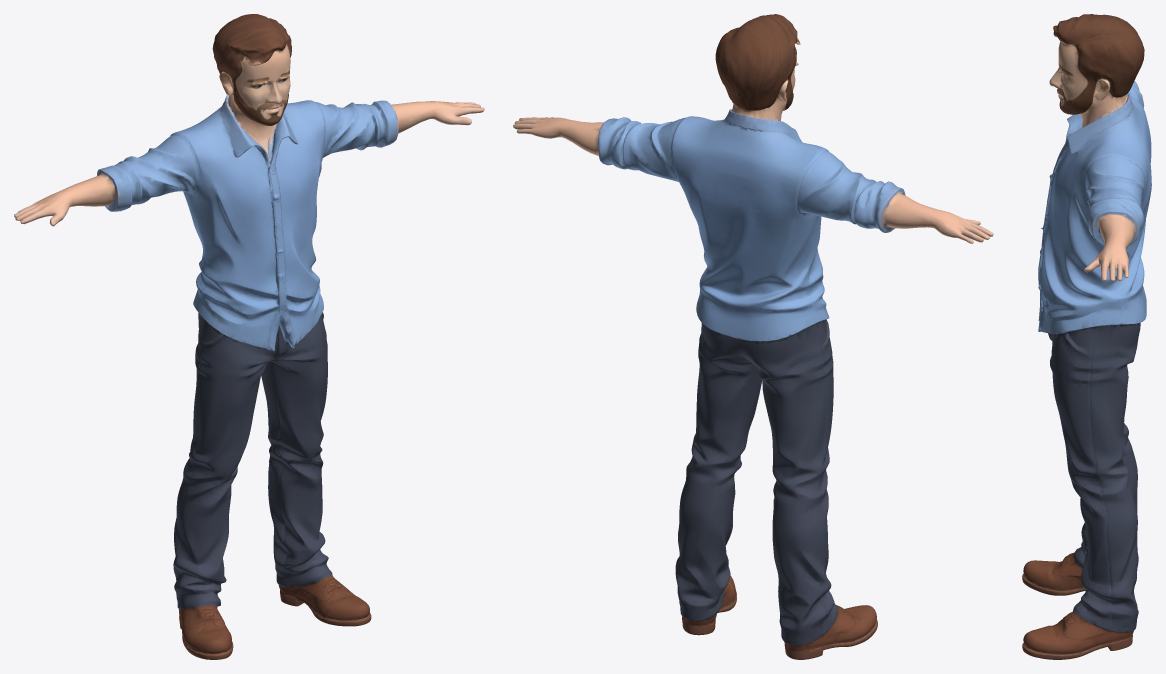
Rendered from scott_mesh.glb.
The picture shows the model from 3 angles, left to right: view 1: azimuth 30°, elevation 25°; view 2: azimuth 150°, elevation 25°; view 3: azimuth 270°, elevation 25°; orthographic projection. The views are drawn at different scales.
Parts seen in each view (by area): view 1: tripo_node_06aa3eb3-7c2d-4028-85b5-94ae5aa77820; view 2: tripo_node_06aa3eb3-7c2d-4028-85b5-94ae5aa77820; view 3: tripo_node_06aa3eb3-7c2d-4028-85b5-94ae5aa77820.
Boxes of the visible parts, x1=… form: tripo_node_06aa3eb3-7c2d-4028-85b5-94ae5aa77820: x1=14, y1=14, x2=484, y2=659; tripo_node_06aa3eb3-7c2d-4028-85b5-94ae5aa77820: x1=513, y1=14, x2=993, y2=659; tripo_node_06aa3eb3-7c2d-4028-85b5-94ae5aa77820: x1=1022, y1=14, x2=1151, y2=659.
Size of the model in its own units: 0.8113 by 0.9994 by 0.1954.
Materials: 1 (1 with a texture image).
